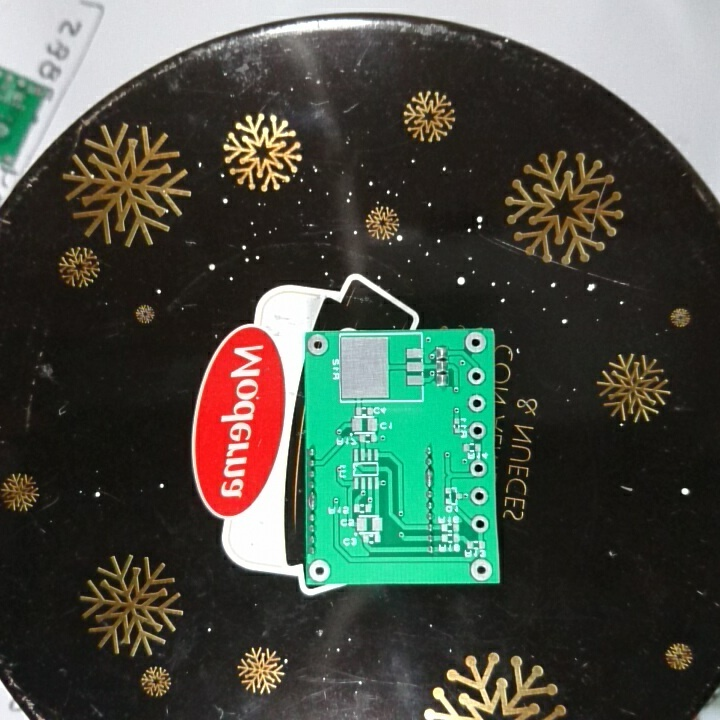F: (304, 332, 330, 360), (468, 557, 494, 582), (307, 558, 332, 583), (462, 331, 488, 355), (466, 392, 488, 416), (468, 457, 489, 480), (469, 485, 490, 508), (467, 420, 489, 441), (465, 366, 485, 389), (471, 512, 489, 535)
P: (305, 491, 320, 512), (424, 467, 435, 490)
